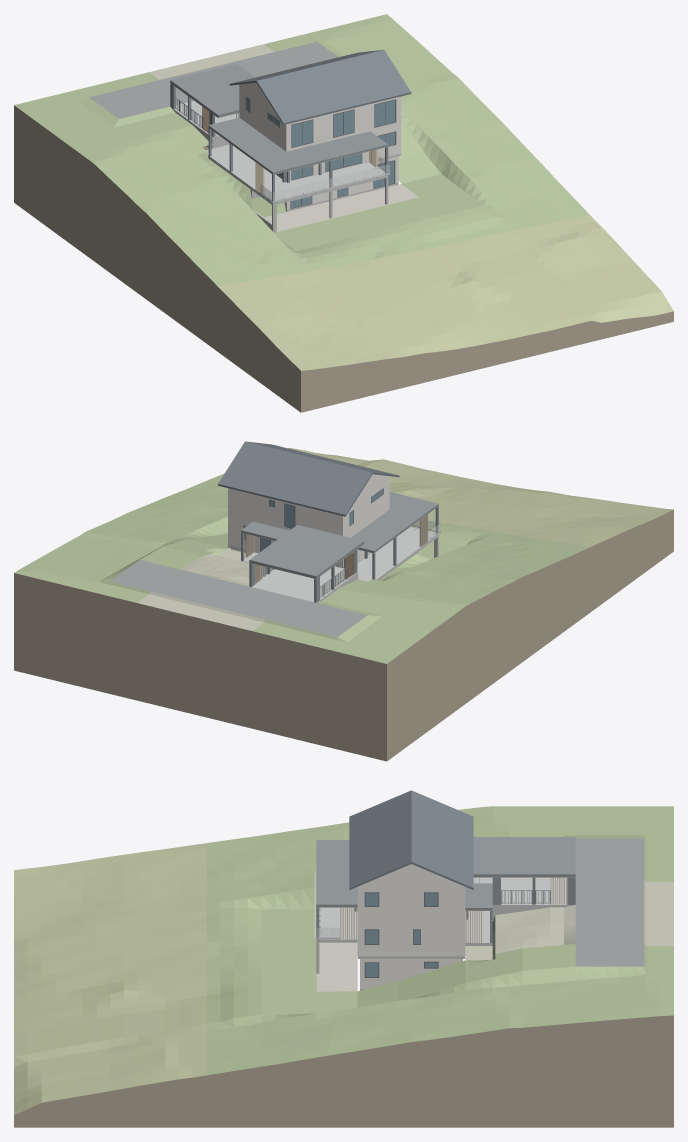
File: Schaffernak_Haus_C.glb
3 renders of one model, top to bottom at view 1: azimuth 30°, elevation 25°; view 2: azimuth 150°, elevation 25°; view 3: azimuth 270°, elevation 25°, orthographic. The views are drawn at different scales.
Visible parts, largest first — view 1: Foto_Gelaende_Rasen_Boeschung, Foto_Gelaende_Hang_unten, Foto_Gelaende_Modellrand, Satteldach_0, Strasse_parallel_zum_Haus_schematisch, Foto_Gelaende_Kies_Kellerbereich, Entwurf_Dach_vorne, Carport_Dach, Balkon_vorne, Foto_Gelaende_Seitliche_Gruenflaeche, Entwurf_Dach_links, Foto_Gelaende_Rueckseite (+3 smaller); view 2: Foto_Gelaende_Modellrand, Foto_Gelaende_Rasen_Boeschung, Foto_Gelaende_Hang_unten, Strasse_parallel_zum_Haus_schematisch, Satteldach_1, Foto_Gelaende_Rueckseite, Carport_Dach, Foto_Gelaende_Seitliche_Gruenflaeche, Carport_Boden, Entwurf_Dach_links, Balkon_links, OG_back_Wand4 (+5 smaller); view 3: Foto_Gelaende_Rasen_Boeschung, Foto_Gelaende_Modellrand, Foto_Gelaende_Hang_unten, Strasse_parallel_zum_Haus_schematisch, Foto_Gelaende_Rueckseite, Foto_Gelaende_Seitliche_Gruenflaeche, Satteldach_0, Satteldach_1, Carport_Dach, Entwurf_Dach_vorne, Foto_Gelaende_Kies_Kellerbereich, Carport_Boden (+9 smaller).
Boxes of the visible parts, box(x1,y1,x2,y2) form: Foto_Gelaende_Rasen_Boeschung: box(14, 14, 589, 285); Foto_Gelaende_Hang_unten: box(217, 215, 673, 370); Foto_Gelaende_Modellrand: box(14, 105, 673, 412); Satteldach_0: box(256, 50, 411, 124); Strasse_parallel_zum_Haus_schematisch: box(89, 41, 337, 118); Foto_Gelaende_Kies_Kellerbereich: box(265, 184, 418, 231); Entwurf_Dach_vorne: box(255, 131, 388, 174); Carport_Dach: box(171, 64, 254, 114); Balkon_vorne: box(255, 162, 388, 205); Foto_Gelaende_Seitliche_Gruenflaeche: box(264, 34, 440, 183); Entwurf_Dach_links: box(208, 117, 285, 160); Foto_Gelaende_Rueckseite: box(149, 44, 273, 79); Foto_Gelaende_Modellrand: box(14, 509, 673, 761); Foto_Gelaende_Rasen_Boeschung: box(14, 476, 589, 663); Foto_Gelaende_Hang_unten: box(218, 447, 673, 546); Strasse_parallel_zum_Haus_schematisch: box(110, 560, 366, 636); Satteldach_1: box(218, 441, 372, 516); Foto_Gelaende_Rueckseite: box(137, 549, 272, 630); Carport_Dach: box(250, 525, 363, 575); Foto_Gelaende_Seitliche_Gruenflaeche: box(97, 533, 229, 602); Carport_Boden: box(252, 569, 352, 602); Entwurf_Dach_links: box(351, 509, 420, 552); Balkon_links: box(357, 540, 420, 580); OG_back_Wand4: box(228, 488, 268, 522); Foto_Gelaende_Rasen_Boeschung: box(206, 806, 673, 1075); Foto_Gelaende_Modellrand: box(14, 1015, 673, 1127); Foto_Gelaende_Hang_unten: box(14, 843, 206, 1115); Strasse_parallel_zum_Haus_schematisch: box(575, 838, 644, 966); Foto_Gelaende_Rueckseite: box(465, 879, 673, 960); Foto_Gelaende_Seitliche_Gruenflaeche: box(357, 944, 673, 1007); Satteldach_0: box(349, 790, 411, 889); Satteldach_1: box(411, 790, 473, 889); Carport_Dach: box(473, 837, 575, 874); Entwurf_Dach_vorne: box(316, 840, 357, 907); Foto_Gelaende_Kies_Kellerbereich: box(316, 942, 357, 991); Carport_Boden: box(492, 877, 573, 906).
Bounding box in the file's own units: 36 × 16.06 × 48.
